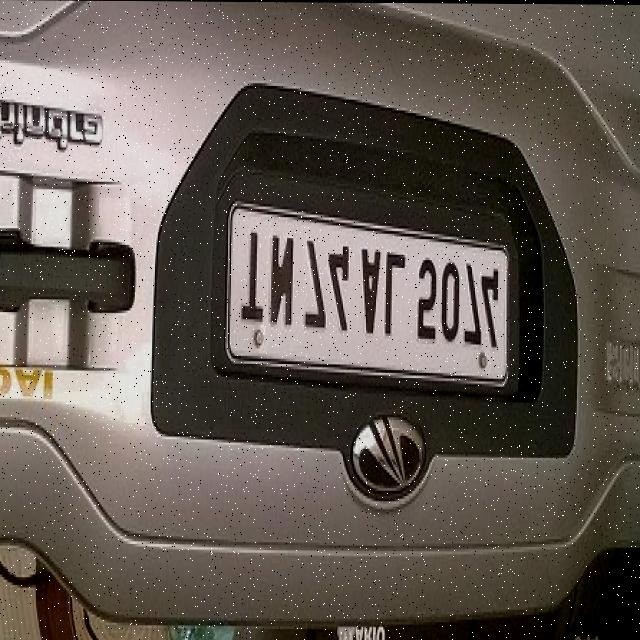plate: (225, 198, 508, 384)
